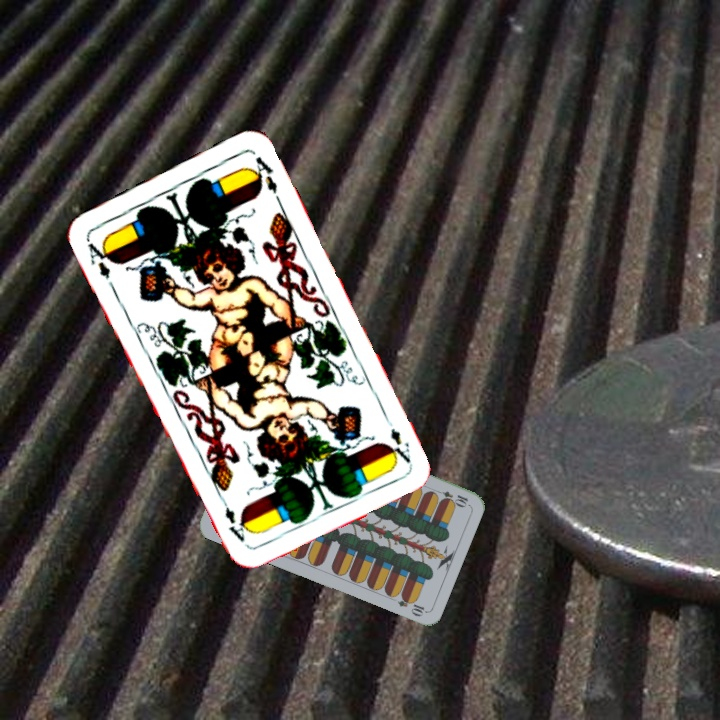E10: (431, 486, 471, 508)
EA: (380, 410, 414, 466), (83, 236, 116, 282)
